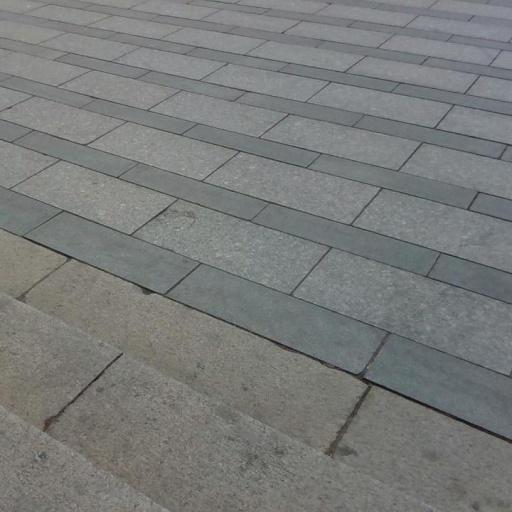stairs: (0, 295, 433, 511), (0, 406, 166, 511)
